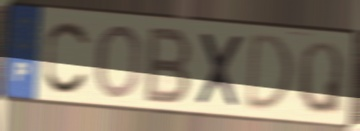B: (142, 24, 195, 106)
C: (42, 17, 93, 97)
D: (243, 31, 296, 113)
O: (92, 21, 144, 102)
Q: (296, 39, 345, 119)
X: (194, 28, 246, 111)
